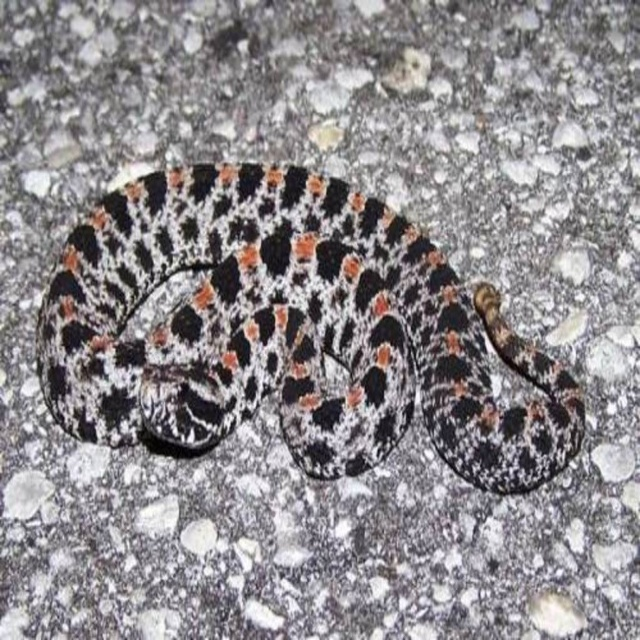Snake: (38, 163, 586, 497)
